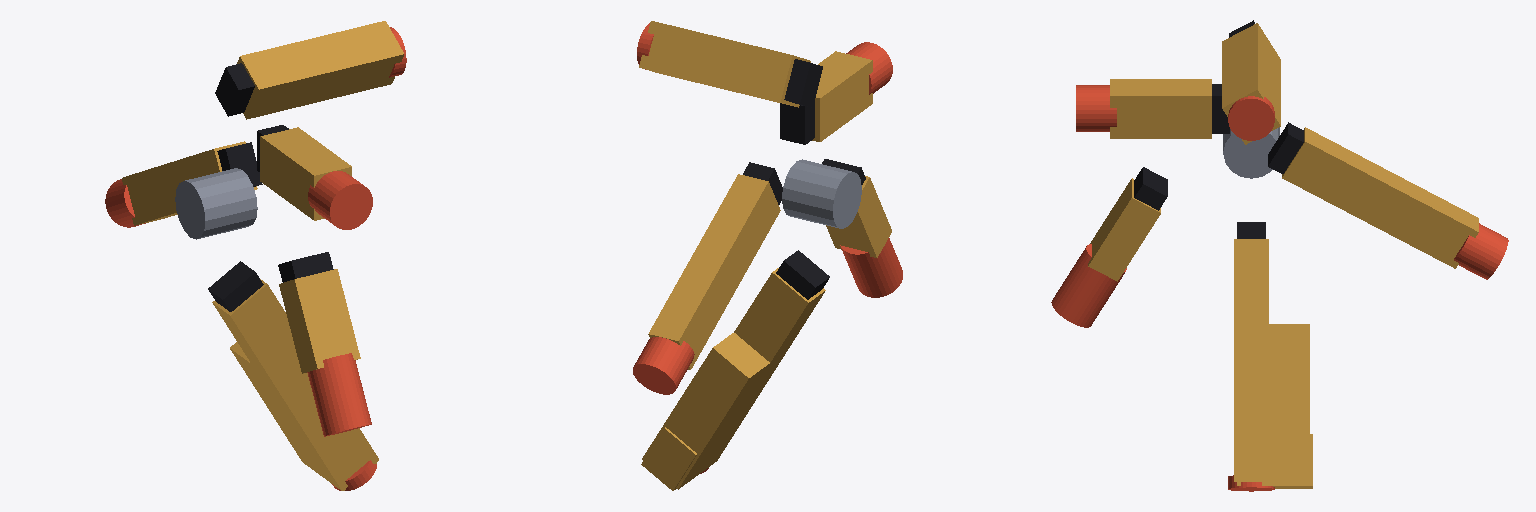
robot.urdf — g0052_c06:
<robot name="g0052_c06">
  <link name="palm">
    <visual name="palm_palm1">
      <origin xyz="0 0 0" rpy="0 0 0" />
      <geometry>
        <mesh filename="palm_palm1.obj" />
      </geometry>
      <material name="palm_palm1_mat">
        <color rgba="0.55 0.57 0.62 1" />
      </material>
    </visual>
    <collision>
      <origin xyz="0 0 0" rpy="0 0 0" />
      <geometry>
        <mesh filename="palm_palm1.obj" />
      </geometry>
    </collision>
    <visual name="palm_mount2">
      <origin xyz="0 0 0" rpy="0 0 0" />
      <geometry>
        <mesh filename="palm_mount2.obj" />
      </geometry>
      <material name="palm_mount2_mat">
        <color rgba="0.55 0.57 0.62 1" />
      </material>
    </visual>
    <collision>
      <origin xyz="0 0 0" rpy="0 0 0" />
      <geometry>
        <mesh filename="palm_mount2.obj" />
      </geometry>
    </collision>
    <visual name="palm_motor3">
      <origin xyz="-0.0045 -0.07625 -0.0335048095" rpy="1.04719755 -3.061617e-17 -5.30287619e-17" />
      <geometry>
        <box size="0.029 0.034 0.02" />
      </geometry>
      <material name="palm_motor3_mat">
        <color rgba="0.15 0.15 0.17 1" />
      </material>
    </visual>
    <collision>
      <origin xyz="-0.0045 -0.07625 -0.0335048095" rpy="1.04719755 -3.061617e-17 -5.30287619e-17" />
      <geometry>
        <box size="0.029 0.034 0.02" />
      </geometry>
    </collision>
    <visual name="palm_motor4">
      <origin xyz="0 -0.0325 0.04" rpy="-0 -1.57079633 0" />
      <geometry>
        <box size="0.029 0.034 0.02" />
      </geometry>
      <material name="palm_motor4_mat">
        <color rgba="0.15 0.15 0.17 1" />
      </material>
    </visual>
    <collision>
      <origin xyz="0 -0.0325 0.04" rpy="-0 -1.57079633 0" />
      <geometry>
        <box size="0.029 0.034 0.02" />
      </geometry>
    </collision>
    <visual name="palm_motor5">
      <origin xyz="-0.0117894192 -7.95431429e-19 -0.0735048095" rpy="1.57079633 -0.523598776 -1.41410032e-16" />
      <geometry>
        <box size="0.029 0.034 0.02" />
      </geometry>
      <material name="palm_motor5_mat">
        <color rgba="0.15 0.15 0.17 1" />
      </material>
    </visual>
    <collision>
      <origin xyz="-0.0117894192 -7.95431429e-19 -0.0735048095" rpy="1.57079633 -0.523598776 -1.41410032e-16" />
      <geometry>
        <box size="0.029 0.034 0.02" />
      </geometry>
    </collision>
    <visual name="palm_motor6">
      <origin xyz="-0.007 2.29621275e-19 0.08" rpy="-1.06057524e-16 1.04719755 1.57079633" />
      <geometry>
        <box size="0.029 0.034 0.02" />
      </geometry>
      <material name="palm_motor6_mat">
        <color rgba="0.15 0.15 0.17 1" />
      </material>
    </visual>
    <collision>
      <origin xyz="-0.007 2.29621275e-19 0.08" rpy="-1.06057524e-16 1.04719755 1.57079633" />
      <geometry>
        <box size="0.029 0.034 0.02" />
      </geometry>
    </collision>
    <visual name="palm_motor7">
      <origin xyz="0 0.0335048095 0.00375" rpy="1.57079633 1.04719755 -1.57079633" />
      <geometry>
        <box size="0.029 0.034 0.02" />
      </geometry>
      <material name="palm_motor7_mat">
        <color rgba="0.15 0.15 0.17 1" />
      </material>
    </visual>
    <collision>
      <origin xyz="0 0.0335048095 0.00375" rpy="1.57079633 1.04719755 -1.57079633" />
      <geometry>
        <box size="0.029 0.034 0.02" />
      </geometry>
    </collision>
    <inertial>
      <origin xyz="1.62677221e-19 -0.0149299183 -0.00579132769" rpy="-1.57079633 1.38266474 -1.57079633" />
      <mass value="0.759329657" />
      <inertia ixx="0.000831348994" ixy="0" ixz="0" iyy="0.00163737049" iyz="0" izz="0.00239582383" />
    </inertial>
  </link>
  <link name="f0_link0">
    <visual name="f0_link0_link1">
      <origin xyz="0.01875 0 -1.38777878e-17" rpy="0 4.06369831e-17 0" />
      <geometry>
        <box size="0.0615 0.033 0.024" />
      </geometry>
      <material name="f0_link0_link1_mat">
        <color rgba="0.80 0.62 0.30 1" />
      </material>
    </visual>
    <collision>
      <origin xyz="0.01875 0 -1.38777878e-17" rpy="0 4.06369831e-17 0" />
      <geometry>
        <box size="0.0615 0.033 0.024" />
      </geometry>
    </collision>
    <inertial>
      <origin xyz="0.01875 0 0" rpy="0 0 0" />
      <mass value="0.085239" />
      <inertia ixx="1.18269113e-05" ixy="0" ixz="0" iyy="3.09577393e-05" iyz="0" izz="3.46017066e-05" />
    </inertial>
  </link>
  <link name="f0_link1">
    <visual name="f0_link1_link1">
      <origin xyz="0.029 0 -6.9388939e-18" rpy="-1.57079633 -0 -1.57079633" />
      <geometry>
        <cylinder radius="0.0165" length="0.049" />
      </geometry>
      <material name="f0_link1_link1_mat">
        <color rgba="0.85 0.35 0.25 1" />
      </material>
    </visual>
    <collision>
      <origin xyz="0.029 0 -6.9388939e-18" rpy="-1.57079633 -0 -1.57079633" />
      <geometry>
        <cylinder radius="0.0165" length="0.049" />
      </geometry>
    </collision>
    <inertial>
      <origin xyz="0.029 0 0" rpy="0 0 0" />
      <mass value="0.106270851" />
      <inertia ixx="1.35696277e-05" ixy="0" ixz="0" iyy="5.30015704e-05" iyz="0" izz="5.30015704e-05" />
    </inertial>
  </link>
  <link name="f1_link0">
    <visual name="f1_link0_link1">
      <origin xyz="0.02375 0 0" rpy="0 -0 0" />
      <geometry>
        <box size="0.0715 0.029 0.033" />
      </geometry>
      <material name="f1_link0_link1_mat">
        <color rgba="0.80 0.62 0.30 1" />
      </material>
    </visual>
    <collision>
      <origin xyz="0.02375 0 0" rpy="0 -0 0" />
      <geometry>
        <box size="0.0715 0.029 0.033" />
      </geometry>
    </collision>
    <inertial>
      <origin xyz="0.02375 0 0" rpy="0 0 0" />
      <mass value="0.119744625" />
      <inertia ixx="1.92589272e-05" ixy="0" ixz="0" iyy="6.18805296e-05" iyz="0" izz="5.94058074e-05" />
    </inertial>
  </link>
  <link name="f1_link1">
    <visual name="f1_link1_link1">
      <origin xyz="0.019 0 3.46944695e-18" rpy="-1.57079633 -0 -1.57079633" />
      <geometry>
        <cylinder radius="0.0165" length="0.029" />
      </geometry>
      <material name="f1_link1_link1_mat">
        <color rgba="0.85 0.35 0.25 1" />
      </material>
    </visual>
    <collision>
      <origin xyz="0.019 0 3.46944695e-18" rpy="-1.57079633 -0 -1.57079633" />
      <geometry>
        <cylinder radius="0.0165" length="0.029" />
      </geometry>
    </collision>
    <inertial>
      <origin xyz="0.019 0 0" rpy="0 0 0" />
      <mass value="0.0763354" />
      <inertia ixx="9.49466441e-06" ixy="0" ixz="0" iyy="2.24143997e-05" iyz="0" izz="2.24143997e-05" />
    </inertial>
  </link>
  <link name="f2_link0">
    <visual name="f2_link0_link1">
      <origin xyz="0.02875 6.9388939e-18 0" rpy="-5.52779628e-33 -5.52024069e-33 4.06369831e-17" />
      <geometry>
        <box size="0.0815 0.033 0.024" />
      </geometry>
      <material name="f2_link0_link1_mat">
        <color rgba="0.80 0.62 0.30 1" />
      </material>
    </visual>
    <collision>
      <origin xyz="0.02875 6.9388939e-18 0" rpy="-5.52779628e-33 -5.52024069e-33 4.06369831e-17" />
      <geometry>
        <box size="0.0815 0.033 0.024" />
      </geometry>
    </collision>
    <inertial>
      <origin xyz="0.02875 0 0" rpy="0 0 0" />
      <mass value="0.112959" />
      <inertia ixx="1.56730613e-05" ixy="0" ixz="0" iyy="6.79471918e-05" iyz="0" izz="7.27761891e-05" />
    </inertial>
  </link>
  <link name="f2_link1">
    <visual name="f2_link1_link1">
      <origin xyz="0.04375 1.38777878e-17 -0.0145" rpy="-5.52779628e-33 -5.52024069e-33 4.06369831e-17" />
      <geometry>
        <box size="0.1115 0.033 0.053" />
      </geometry>
      <material name="f2_link1_link1_mat">
        <color rgba="0.80 0.62 0.30 1" />
      </material>
    </visual>
    <collision>
      <origin xyz="0.04375 1.38777878e-17 -0.0145" rpy="-5.52779628e-33 -5.52024069e-33 4.06369831e-17" />
      <geometry>
        <box size="0.1115 0.033 0.053" />
      </geometry>
    </collision>
    <inertial>
      <origin xyz="0.04375 0 -0.0145" rpy="0 0 0" />
      <mass value="0.341273625" />
      <inertia ixx="0.000110857049" ixy="0" ixz="0" iyy="0.000433453053" iyz="0" izz="0.000384537167" />
    </inertial>
  </link>
  <link name="f2_link2">
    <visual name="f2_link2_link1">
      <origin xyz="-0.00625 -6.9388939e-18 -0.0165" rpy="-5.52779628e-33 -5.52024069e-33 4.06369831e-17" />
      <geometry>
        <box size="0.0365 0.029 0.053" />
      </geometry>
      <material name="f2_link2_link1_mat">
        <color rgba="0.80 0.62 0.30 1" />
      </material>
    </visual>
    <collision>
      <origin xyz="-0.00625 -6.9388939e-18 -0.0165" rpy="-5.52779628e-33 -5.52024069e-33 4.06369831e-17" />
      <geometry>
        <box size="0.0365 0.029 0.053" />
      </geometry>
    </collision>
    <inertial>
      <origin xyz="-0.00625 0 -0.0165" rpy="0 0 0" />
      <mass value="0.098175875" />
      <inertia ixx="2.98618286e-05" ixy="0" ixz="0" iyy="3.38809035e-05" iyz="0" izz="1.778006e-05" />
    </inertial>
  </link>
  <link name="f2_link3">
    <visual name="f2_link3_link1">
      <origin xyz="0.009 0 -3.08148791e-33" rpy="-1.57079633 -0 -1.57079633" />
      <geometry>
        <cylinder radius="0.0165" length="0.009" />
      </geometry>
      <material name="f2_link3_link1_mat">
        <color rgba="0.85 0.35 0.25 1" />
      </material>
    </visual>
    <collision>
      <origin xyz="0.009 0 -3.08148791e-33" rpy="-1.57079633 -0 -1.57079633" />
      <geometry>
        <cylinder radius="0.0165" length="0.009" />
      </geometry>
    </collision>
    <inertial>
      <origin xyz="0.009 0 0" rpy="0 0 0" />
      <mass value="0.046399949" />
      <inertia ixx="5.41970115e-06" ixy="0" ixz="0" iyy="7.09430898e-06" iyz="0" izz="7.09430898e-06" />
    </inertial>
  </link>
  <link name="f3_link0">
    <visual name="f3_link0_link1">
      <origin xyz="0.04375 1.38777878e-17 0" rpy="3.98552134e-18 1.1024023e-33 1.87768018e-33" />
      <geometry>
        <box size="0.1115 0.033 0.029" />
      </geometry>
      <material name="f3_link0_link1_mat">
        <color rgba="0.80 0.62 0.30 1" />
      </material>
    </visual>
    <collision>
      <origin xyz="0.04375 1.38777878e-17 0" rpy="3.98552134e-18 1.1024023e-33 1.87768018e-33" />
      <geometry>
        <box size="0.1115 0.033 0.029" />
      </geometry>
    </collision>
    <inertial>
      <origin xyz="0.04375 0 0" rpy="0 0 0" />
      <mass value="0.186734625" />
      <inertia ixx="3.00331522e-05" ixy="0" ixz="0" iyy="0.000206547947" iyz="0" izz="0.000210407129" />
    </inertial>
  </link>
  <link name="f3_link1">
    <visual name="f3_link1_link1">
      <origin xyz="0.009 1.38777878e-17 -6.9388939e-18" rpy="-1.57079633 -0 -1.57079633" />
      <geometry>
        <cylinder radius="0.0165" length="0.009" />
      </geometry>
      <material name="f3_link1_link1_mat">
        <color rgba="0.85 0.35 0.25 1" />
      </material>
    </visual>
    <collision>
      <origin xyz="0.009 1.38777878e-17 -6.9388939e-18" rpy="-1.57079633 -0 -1.57079633" />
      <geometry>
        <cylinder radius="0.0165" length="0.009" />
      </geometry>
    </collision>
    <inertial>
      <origin xyz="0.009 0 0" rpy="0 0 0" />
      <mass value="0.046399949" />
      <inertia ixx="5.41970115e-06" ixy="0" ixz="0" iyy="7.09430898e-06" iyz="0" izz="7.09430898e-06" />
    </inertial>
  </link>
  <link name="f4_link0">
    <visual name="f4_link0_link1">
      <origin xyz="0.02375 0 -3.46944695e-18" rpy="0 2.57628149e-17 0" />
      <geometry>
        <box size="0.0715 0.024 0.033" />
      </geometry>
      <material name="f4_link0_link1_mat">
        <color rgba="0.80 0.62 0.30 1" />
      </material>
    </visual>
    <collision>
      <origin xyz="0.02375 0 -3.46944695e-18" rpy="0 2.57628149e-17 0" />
      <geometry>
        <box size="0.0715 0.024 0.033" />
      </geometry>
    </collision>
    <inertial>
      <origin xyz="0.02375 0 0" rpy="0 0 0" />
      <mass value="0.099099" />
      <inertia ixx="1.37499863e-05" ixy="0" ixz="0" iyy="5.12114728e-05" iyz="0" izz="4.69749906e-05" />
    </inertial>
  </link>
  <link name="f4_link1">
    <visual name="f4_link1_link1">
      <origin xyz="0.03375 0 6.9388939e-18" rpy="0 2.57628149e-17 0" />
      <geometry>
        <box size="0.0915 0.024 0.033" />
      </geometry>
      <material name="f4_link1_link1_mat">
        <color rgba="0.80 0.62 0.30 1" />
      </material>
    </visual>
    <collision>
      <origin xyz="0.03375 0 6.9388939e-18" rpy="0 2.57628149e-17 0" />
      <geometry>
        <box size="0.0915 0.024 0.033" />
      </geometry>
    </collision>
    <inertial>
      <origin xyz="0.03375 0 0" rpy="0 0 0" />
      <mass value="0.126819" />
      <inertia ixx="1.75961363e-05" ixy="0" ixz="0" iyy="9.99888553e-05" iyz="0" izz="9.45673431e-05" />
    </inertial>
  </link>
  <link name="f4_link2">
    <visual name="f4_link2_link1">
      <origin xyz="0.019 0 5.20417043e-18" rpy="-1.57079633 -0 -1.57079633" />
      <geometry>
        <cylinder radius="0.0165" length="0.029" />
      </geometry>
      <material name="f4_link2_link1_mat">
        <color rgba="0.85 0.35 0.25 1" />
      </material>
    </visual>
    <collision>
      <origin xyz="0.019 0 5.20417043e-18" rpy="-1.57079633 -0 -1.57079633" />
      <geometry>
        <cylinder radius="0.0165" length="0.029" />
      </geometry>
    </collision>
    <inertial>
      <origin xyz="0.019 0 0" rpy="0 0 0" />
      <mass value="0.0763354" />
      <inertia ixx="9.49466441e-06" ixy="0" ixz="0" iyy="2.24143997e-05" iyz="0" izz="2.24143997e-05" />
    </inertial>
  </link>
  <joint name="f0_j0" type="revolute">
    <parent link="palm" />
    <child link="f0_link0" />
    <origin xyz="-0.0045 -0.08 -0.04" rpy="0 1.04719755 -1.57079633" />
    <axis xyz="0 1 6.123234e-17" />
    <limit effort="0.5" lower="-0.523598776" upper="0.523598776" velocity="5" />
    <dynamics damping="0.0775033" friction="0" />
  </joint>
  <joint name="f0_j1" type="revolute">
    <parent link="f0_link0" />
    <child link="f0_link1" />
    <origin xyz="0.04 0 0" rpy="0 0 0" />
    <axis xyz="0 1 6.123234e-17" />
    <limit effort="0.5" lower="-0.523598776" upper="0.523598776" velocity="5" />
    <dynamics damping="0.0775033" friction="0" />
  </joint>
  <joint name="f1_j0" type="revolute">
    <parent link="palm" />
    <child link="f1_link0" />
    <origin xyz="0 -0.04 0.04" rpy="0 1.8369702e-16 -1.57079633" />
    <axis xyz="0 0 1" />
    <limit effort="0.5" lower="-0.523598776" upper="1.57079633" velocity="5" />
    <dynamics damping="0.0775033" friction="0" />
  </joint>
  <joint name="f1_j1" type="revolute">
    <parent link="f1_link0" />
    <child link="f1_link1" />
    <origin xyz="0.05 0 0" rpy="0 0 0" />
    <axis xyz="-0 -1 -6.123234e-17" />
    <limit effort="0.5" lower="-0.523598776" upper="0.523598776" velocity="5" />
    <dynamics damping="0.0775033" friction="0" />
  </joint>
  <joint name="f2_j0" type="revolute">
    <parent link="palm" />
    <child link="f2_link0" />
    <origin xyz="-0.00803941916 0 -0.08" rpy="1.57079633 1.04719755 2.12115048e-16" />
    <axis xyz="0 1 6.123234e-17" />
    <limit effort="0.5" lower="-0.523598776" upper="0.523598776" velocity="5" />
    <dynamics damping="0.0775033" friction="0" />
  </joint>
  <joint name="f2_j1" type="revolute">
    <parent link="f2_link0" />
    <child link="f2_link1" />
    <origin xyz="0.06 0 0" rpy="0 0 0" />
    <axis xyz="0 1 6.123234e-17" />
    <limit effort="0.5" lower="-0.523598776" upper="0.523598776" velocity="5" />
    <dynamics damping="0.0775033" friction="0" />
  </joint>
  <joint name="f2_j2" type="revolute">
    <parent link="f2_link1" />
    <child link="f2_link2" />
    <origin xyz="0.09 0 0" rpy="0 0 0" />
    <axis xyz="0 0 1" />
    <limit effort="0.5" lower="-0.523598776" upper="1.57079633" velocity="5" />
    <dynamics damping="0.0775033" friction="0" />
  </joint>
  <joint name="f2_j3" type="revolute">
    <parent link="f2_link2" />
    <child link="f2_link3" />
    <origin xyz="0 0 0" rpy="0 0 0" />
    <axis xyz="0 1 6.123234e-17" />
    <limit effort="0.5" lower="-0.523598776" upper="0.523598776" velocity="5" />
    <dynamics damping="0.0775033" friction="0" />
  </joint>
  <joint name="f3_j0" type="revolute">
    <parent link="palm" />
    <child link="f3_link0" />
    <origin xyz="0.0005 0 0.08" rpy="-1.04719755 -5.30287619e-17 -3.061617e-17" />
    <axis xyz="-0 -1 -6.123234e-17" />
    <limit effort="0.5" lower="-0.523598776" upper="0.523598776" velocity="5" />
    <dynamics damping="0.0775033" friction="0" />
  </joint>
  <joint name="f3_j1" type="revolute">
    <parent link="f3_link0" />
    <child link="f3_link1" />
    <origin xyz="0.09 0 0" rpy="0 0 0" />
    <axis xyz="0 0 1" />
    <limit effort="0.5" lower="-0.523598776" upper="1.57079633" velocity="5" />
    <dynamics damping="0.0775033" friction="0" />
  </joint>
  <joint name="f4_j0" type="revolute">
    <parent link="palm" />
    <child link="f4_link0" />
    <origin xyz="0 0.04 0" rpy="3.14159265 0.523598776 1.57079633" />
    <axis xyz="0 0 1" />
    <limit effort="0.5" lower="-0.523598776" upper="1.57079633" velocity="5" />
    <dynamics damping="0.0775033" friction="0" />
  </joint>
  <joint name="f4_j1" type="revolute">
    <parent link="f4_link0" />
    <child link="f4_link1" />
    <origin xyz="0.05 0 0" rpy="0 0 0" />
    <axis xyz="0 0 1" />
    <limit effort="0.5" lower="-0.523598776" upper="1.57079633" velocity="5" />
    <dynamics damping="0.0775033" friction="0" />
  </joint>
  <joint name="f4_j2" type="revolute">
    <parent link="f4_link1" />
    <child link="f4_link2" />
    <origin xyz="0.07 0 0" rpy="0 0 0" />
    <axis xyz="0 0 1" />
    <limit effort="0.5" lower="-0.523598776" upper="1.57079633" velocity="5" />
    <dynamics damping="0.0775033" friction="0" />
  </joint>
</robot>

--- Render facts (derived) ---
3 views of the same robot in one strip: view 1: azimuth 30°, elevation 25°; view 2: azimuth 150°, elevation 25°; view 3: azimuth 270°, elevation 25° (orthographic).
Model g0052_c06 with 14 links and 13 joints (13 revolute), rooted at palm, posed all joints at 0.
Links seen in each view (by area): view 1: palm, f3_link0, f2_link1, f0_link0, f2_link0, f1_link0, f0_link1, f1_link1, f4_link1, f4_link0, f4_link2; view 2: palm, f2_link1, f3_link0, f4_link1, f4_link0, f2_link0, f1_link0, f4_link2, f0_link0, f0_link1, f2_link2, f1_link1; view 3: f2_link1, f1_link0, f4_link1, f4_link0, palm, f3_link0, f2_link0, f0_link0, f0_link1, f4_link2, f1_link1, f3_link1.
Boxes of the visible links, x1,y1,x2,y2 form: palm: (175,63,333,311); f3_link0: (237,21,403,119); f2_link1: (230,342,378,490); f0_link0: (279,269,360,373); f2_link0: (212,279,308,398); f1_link0: (260,127,351,220); f0_link1: (307,353,371,436); f1_link1: (308,171,372,229); f4_link1: (122,161,185,225); f4_link0: (167,141,257,190); f4_link2: (105,179,145,227); palm: (743,59,865,299); f2_link1: (642,333,773,489); f3_link0: (639,21,810,107); f4_link1: (648,234,747,369); f4_link0: (693,174,780,288); f2_link0: (734,268,825,383); f1_link0: (812,51,872,141); f4_link2: (633,337,694,394); f0_link0: (826,176,891,257); f0_link1: (840,238,902,297); f2_link2: (641,427,696,490); f1_link1: (846,42,892,94); f2_link1: (1234,324,1309,481); f1_link0: (1110,79,1211,138); f4_link1: (1346,160,1478,268); f4_link0: (1282,127,1392,223); palm: (1134,20,1303,238); f3_link0: (1222,23,1280,144); f2_link0: (1234,239,1268,354); f0_link0: (1088,178,1160,281); f0_link1: (1051,244,1126,327); f4_link2: (1454,223,1508,279); f1_link1: (1076,85,1116,131); f3_link1: (1228,96,1274,140).
Bounding box of the posed robot: 0.156 × 0.3222 × 0.3314 m (x, y, z).
1 mesh visuals loaded from 2 distinct referenced files (1 OBJ); not drawn: 1 (reference not matched to a file when rendering).
